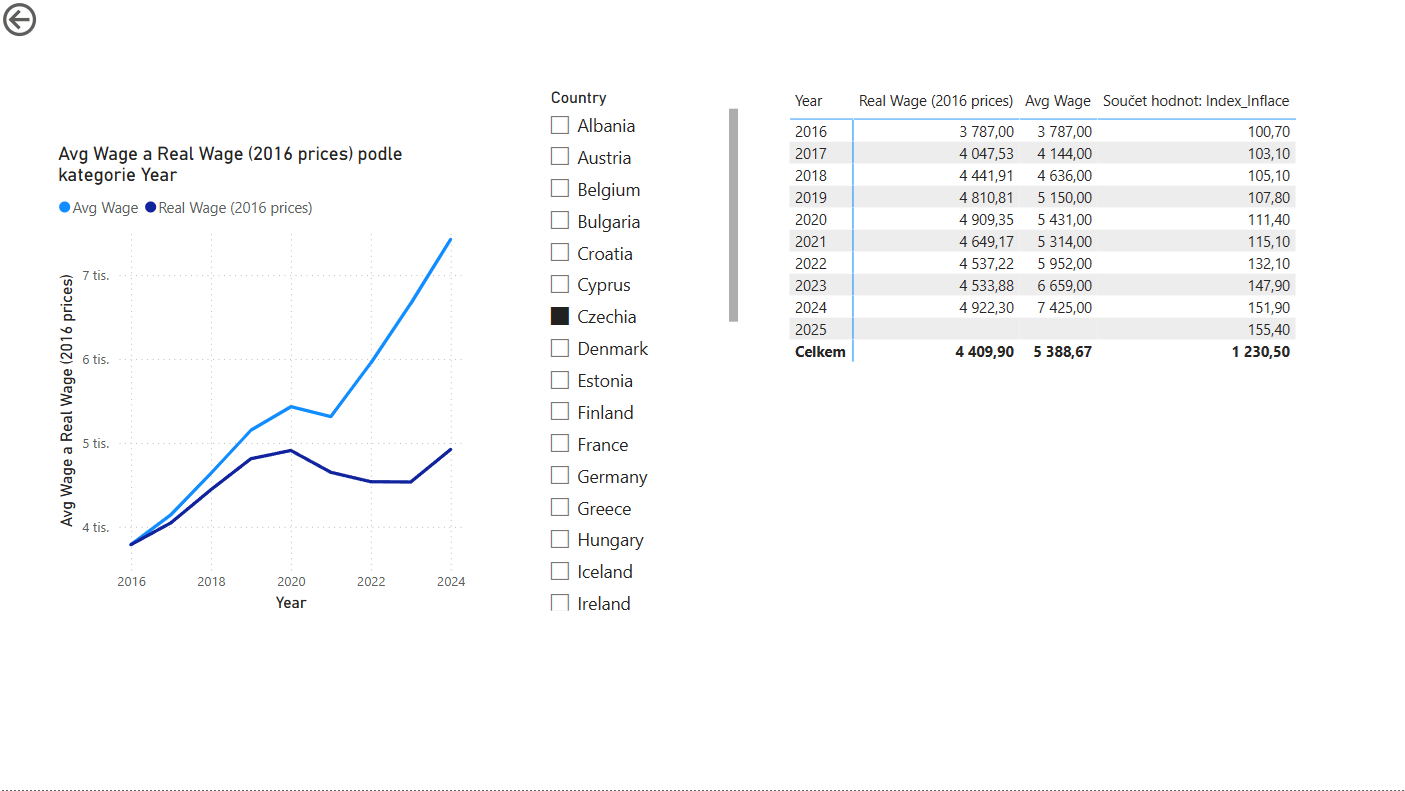

What the dashboard file says about the page in this screenshot:
{"tool":"powerbi","page":{"name":"Stránka 1","canvas":[1280,720],"ordinal":0},"visuals":[{"type":"actionButton","box":[0,0,100,40],"z":0},{"type":"lineChart","fields":{"Category":["DimYear.Year"],"Y":["Tabulkové platy.Avg Wage","Tabulkové platy.Real Wage (2016 prices)"]},"box":[50,132,380,430],"z":1000},{"type":"slicer","fields":{"Values":["DimCountry.Country"]},"box":[490,77,188,485],"z":3000},{"type":"pivotTable","fields":{"Values":["Tabulkové platy.Real Wage (2016 prices)","Tabulkové platy.Avg Wage","Sum(Inflace.Index_Inflace)"],"Rows":["DimYear.Year"]},"box":[715,77,521,337],"z":4000}]}

Visuals, with their boxes in screenshot pixels (x1, y1, x2, y2), scaled from the page's 1280x720 canvas onto the 1405x791 screenshot:
actionButton: l=0, t=0, r=110, b=44
lineChart - DimYear.Year x Tabulkové platy.Avg Wage: l=55, t=145, r=472, b=617
slicer - DimCountry.Country: l=538, t=85, r=744, b=617
pivotTable - Tabulkové platy.Real Wage (2016 prices) x Tabulkové platy.Avg Wage: l=785, t=85, r=1357, b=455
